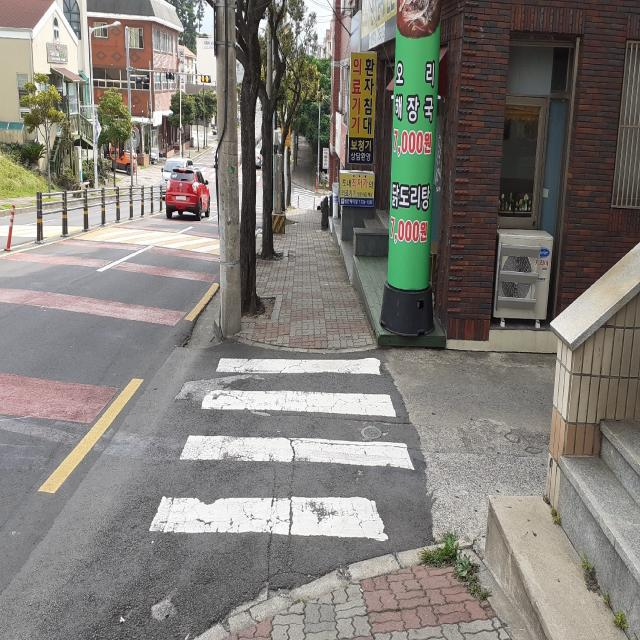횡단보도: (148, 357, 416, 544)
